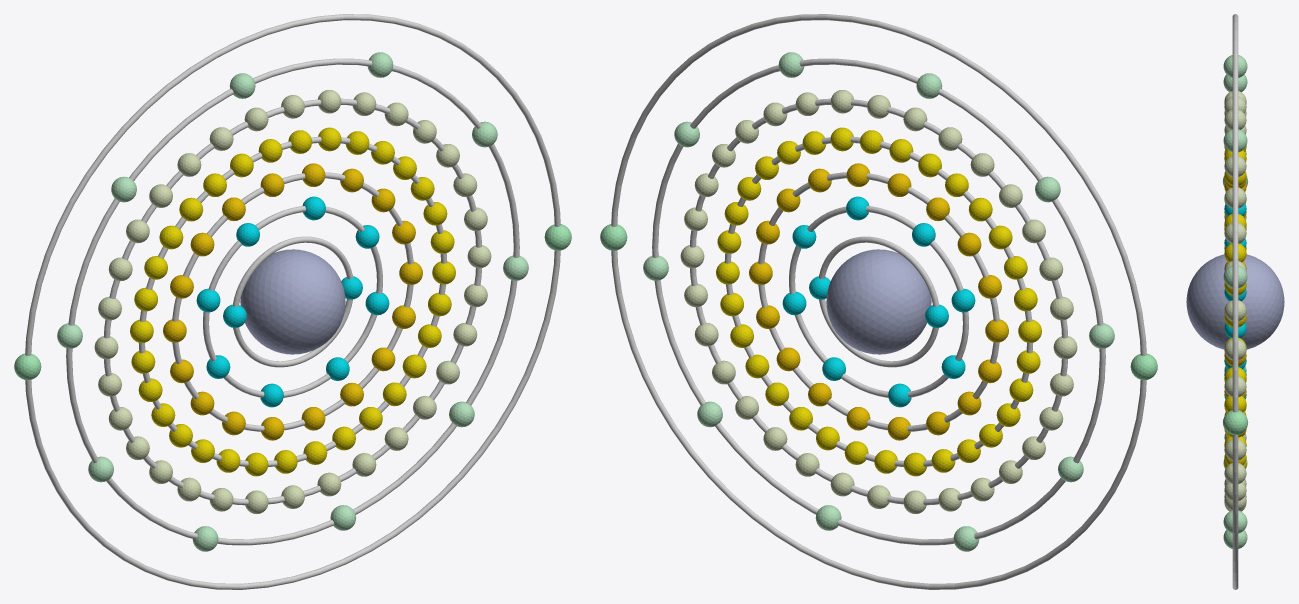
3 views of the same model, side by side, from view 1: azimuth 30°, elevation 25°; view 2: azimuth 150°, elevation 25°; view 3: azimuth 270°, elevation 25° (orthographic). The views are drawn at different scales.
Parts seen in each view (by area): view 1: world; view 2: world; view 3: world.
Part boxes in pixels (x1,y1,x2,y2): world: (14, 14, 571, 589); world: (600, 14, 1157, 589); world: (1186, 14, 1284, 589).
Bounding box in the file's own units: 2.67 × 2.59 × 0.44.
